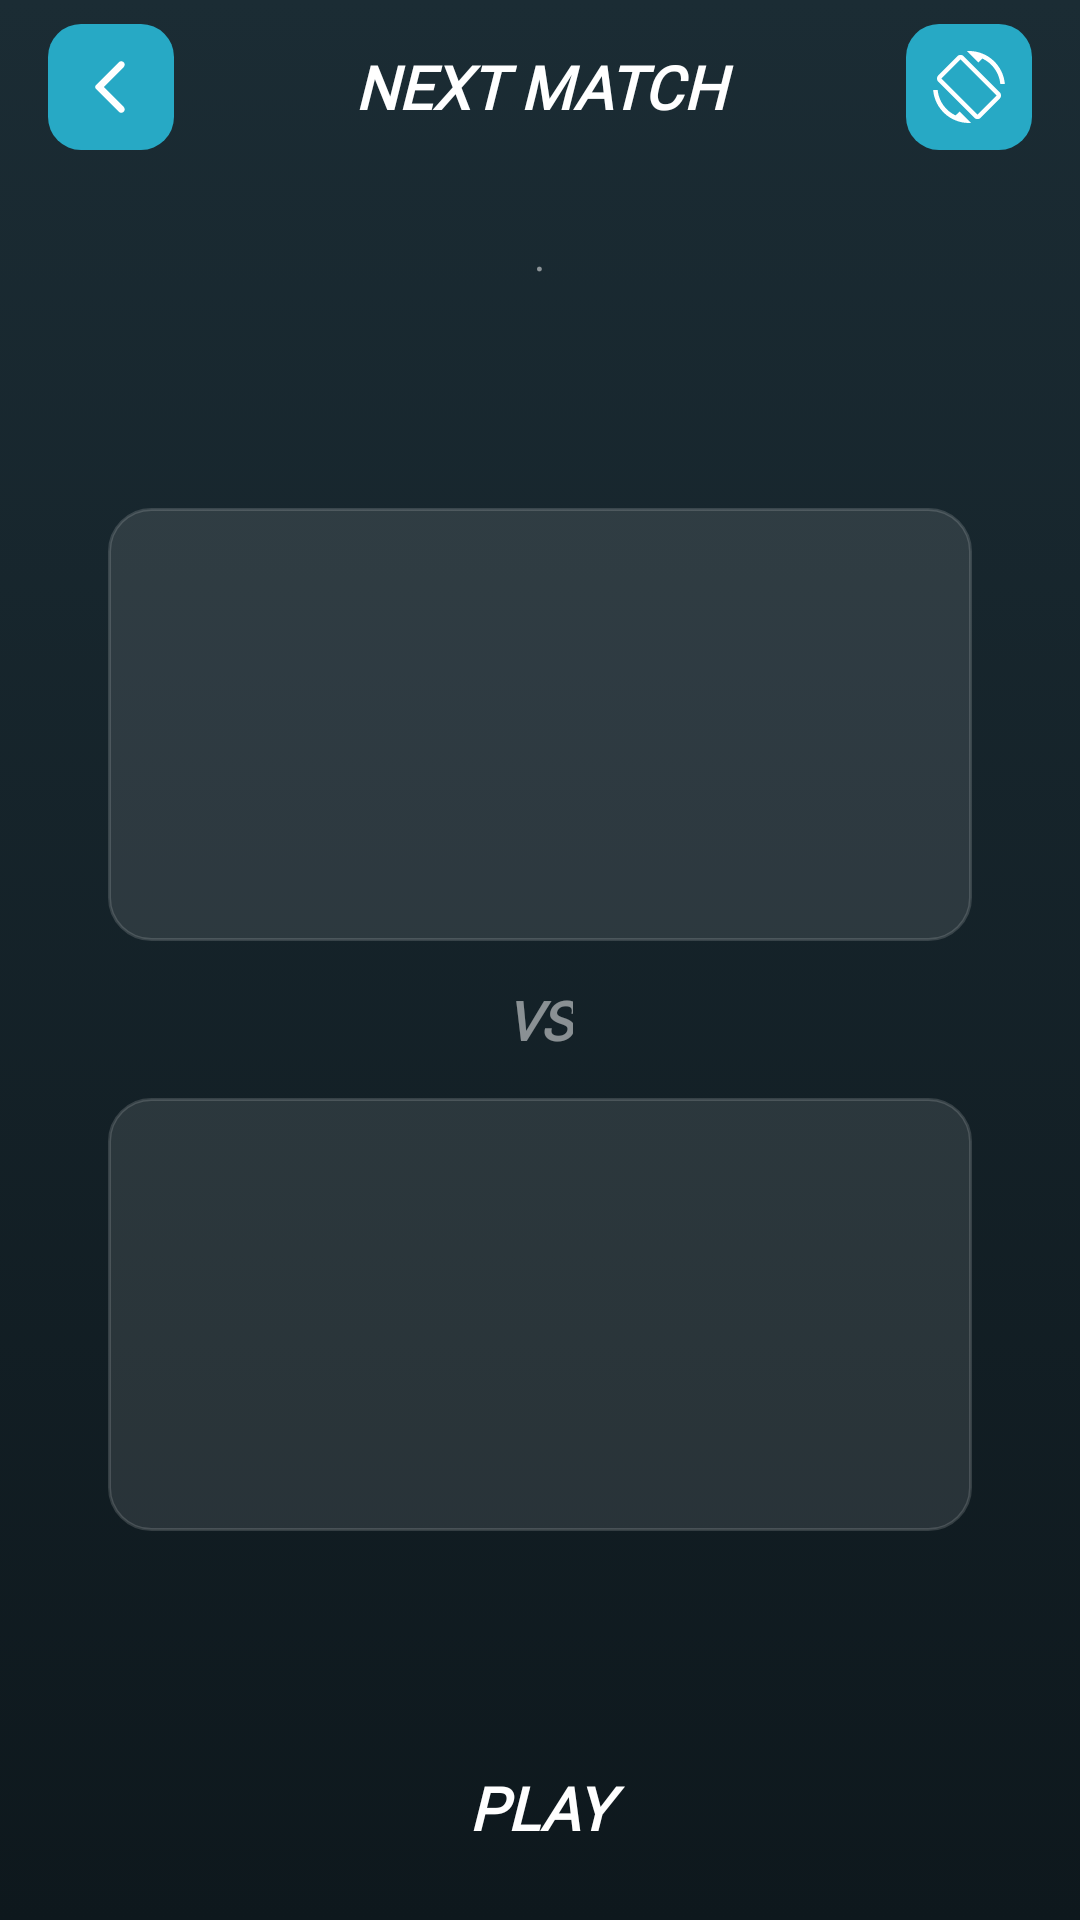

Icon click points for this 1080 x 1920 phone screenshot, format (x=x, y=y):
BACK: (x=111, y=87)
ROTATE: (x=969, y=87)
